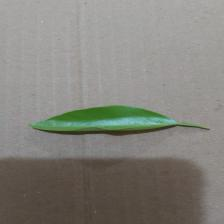healthy: (31, 98, 208, 158)
